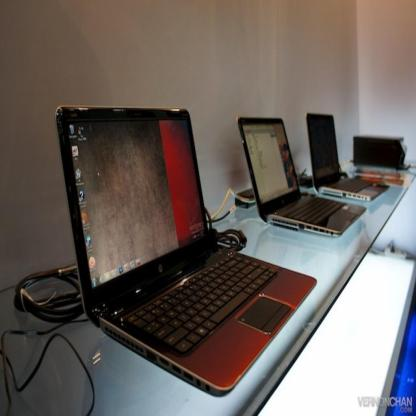board: (57, 105, 318, 391), (237, 118, 367, 236), (306, 113, 390, 199)
